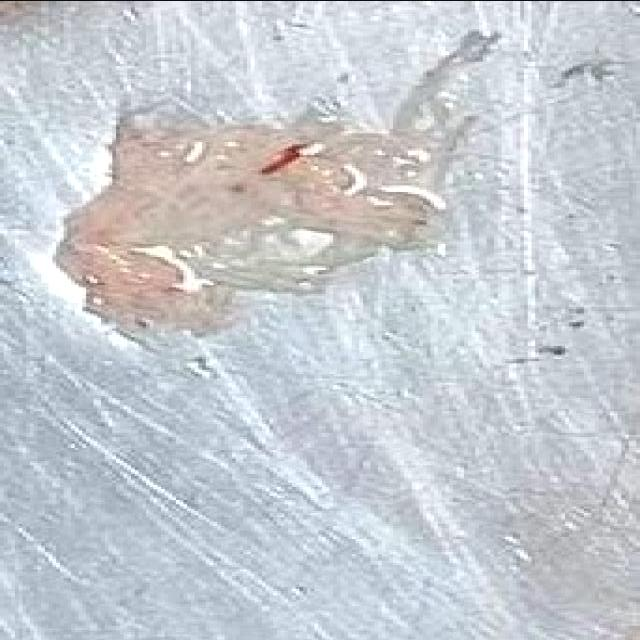General: (2, 4, 637, 638)
Infectious: (50, 29, 502, 339)
